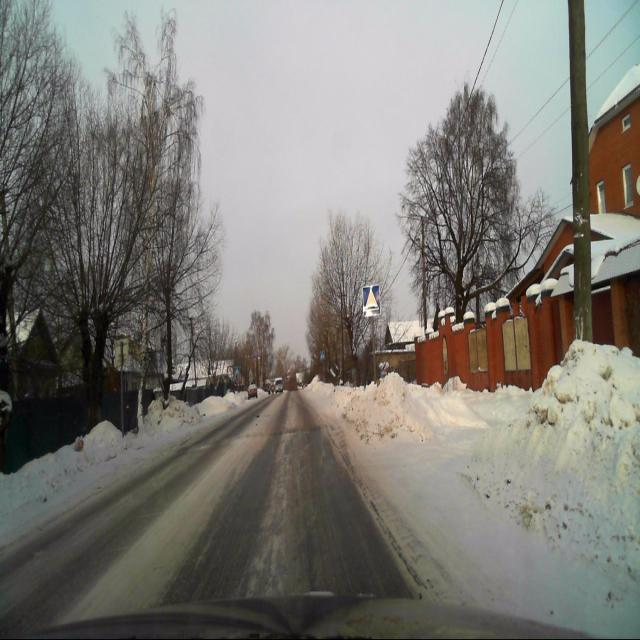road sign: (362, 284, 380, 317)
